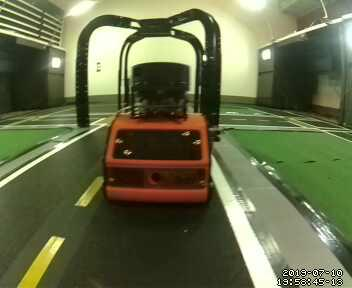pheeno: (104, 62, 214, 217)
